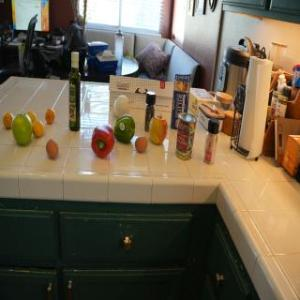bell_pepper: (90, 125, 116, 159), (115, 115, 133, 143)
egg: (46, 139, 60, 159), (136, 135, 148, 153)
onion: (113, 94, 135, 118)
